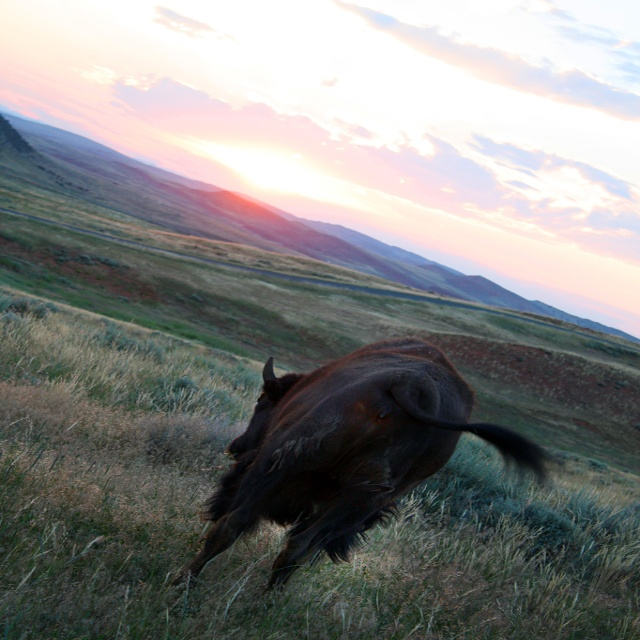Horse: (188, 344, 572, 597)
